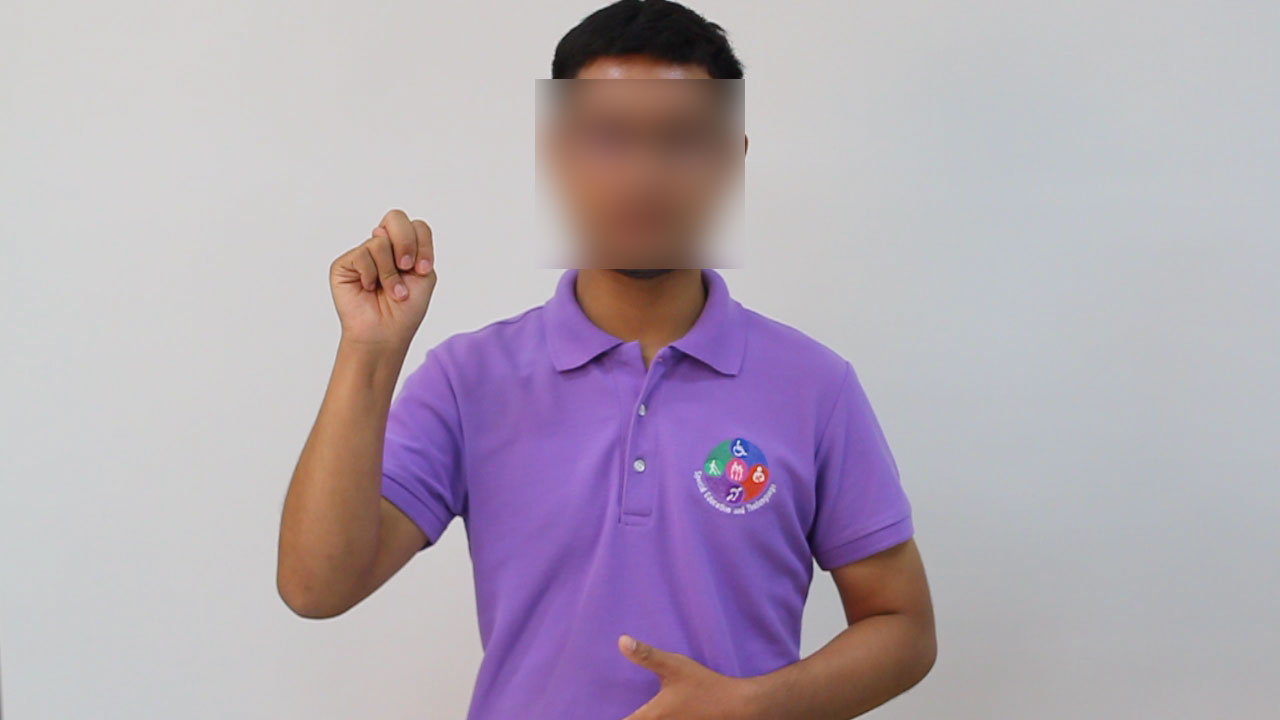nor: (319, 206, 450, 343)
